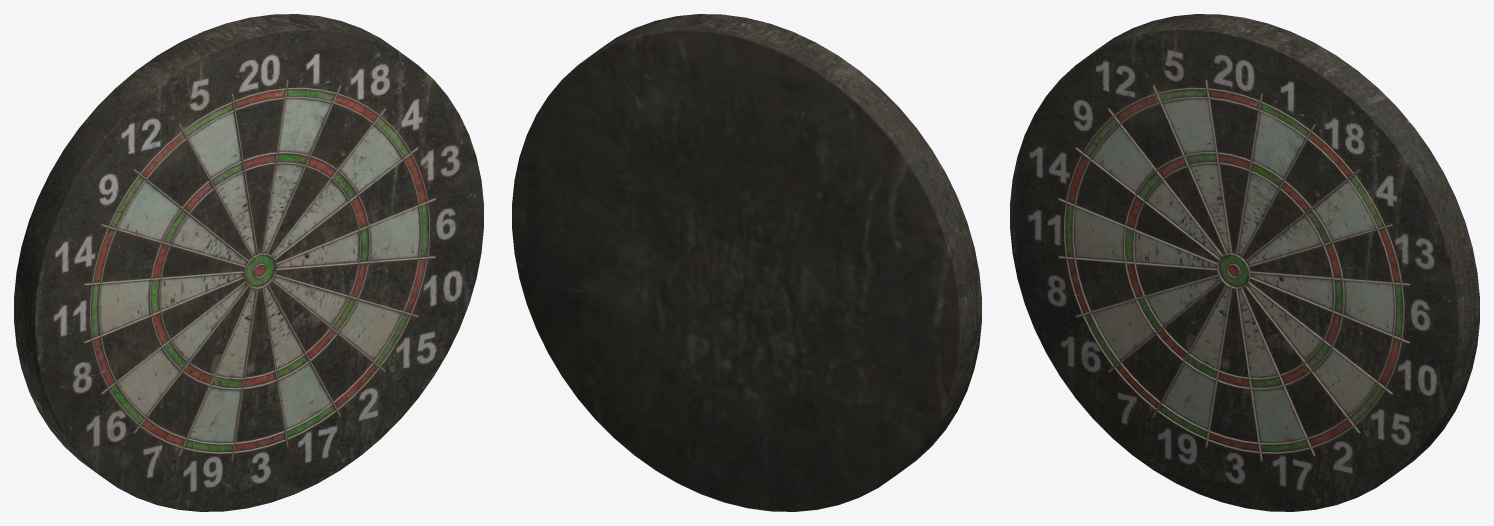
Rendered from dartboard.glb.
The picture shows the model from 3 angles, left to right: view 1: azimuth 30°, elevation 25°; view 2: azimuth 150°, elevation 25°; view 3: azimuth 330°, elevation 25°; orthographic projection.
Visible parts, largest first — view 1: dartboard_dartboard_0; view 2: dartboard_dartboard_0; view 3: dartboard_dartboard_0.
Part boxes in pixels (bbox=[...]): dartboard_dartboard_0: bbox=[14, 14, 483, 511]; dartboard_dartboard_0: bbox=[512, 14, 981, 511]; dartboard_dartboard_0: bbox=[1010, 14, 1479, 511].
Bounding box in the file's own units: 0.4507 × 0.4507 × 0.0398.
Materials: 1 (1 with a texture image).
